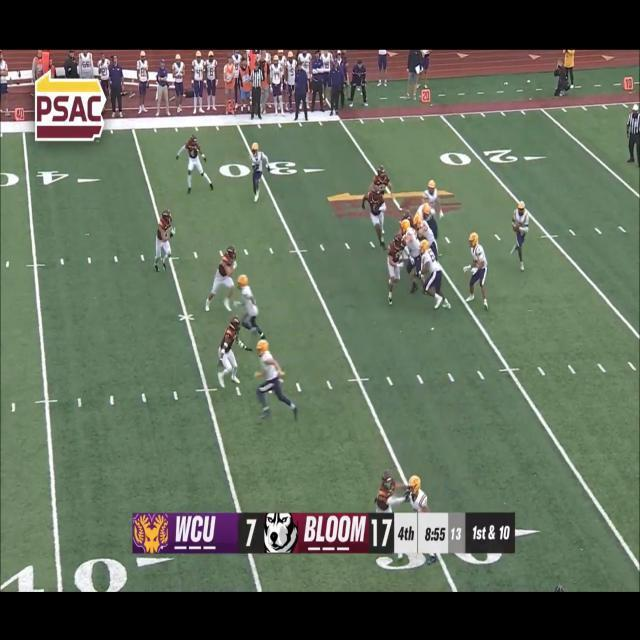football: (512, 222, 522, 232)
